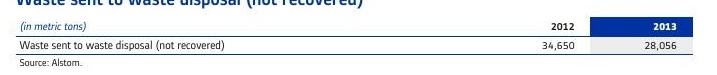table: (0, 0, 717, 75)
